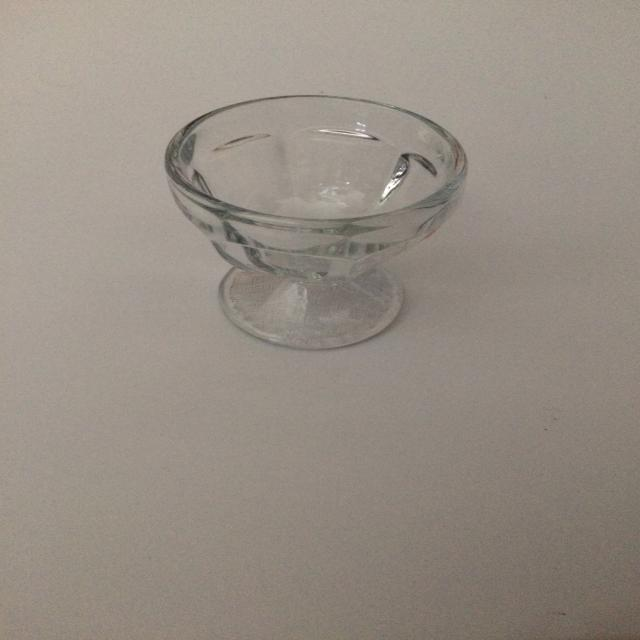glass: (164, 93, 469, 350)
